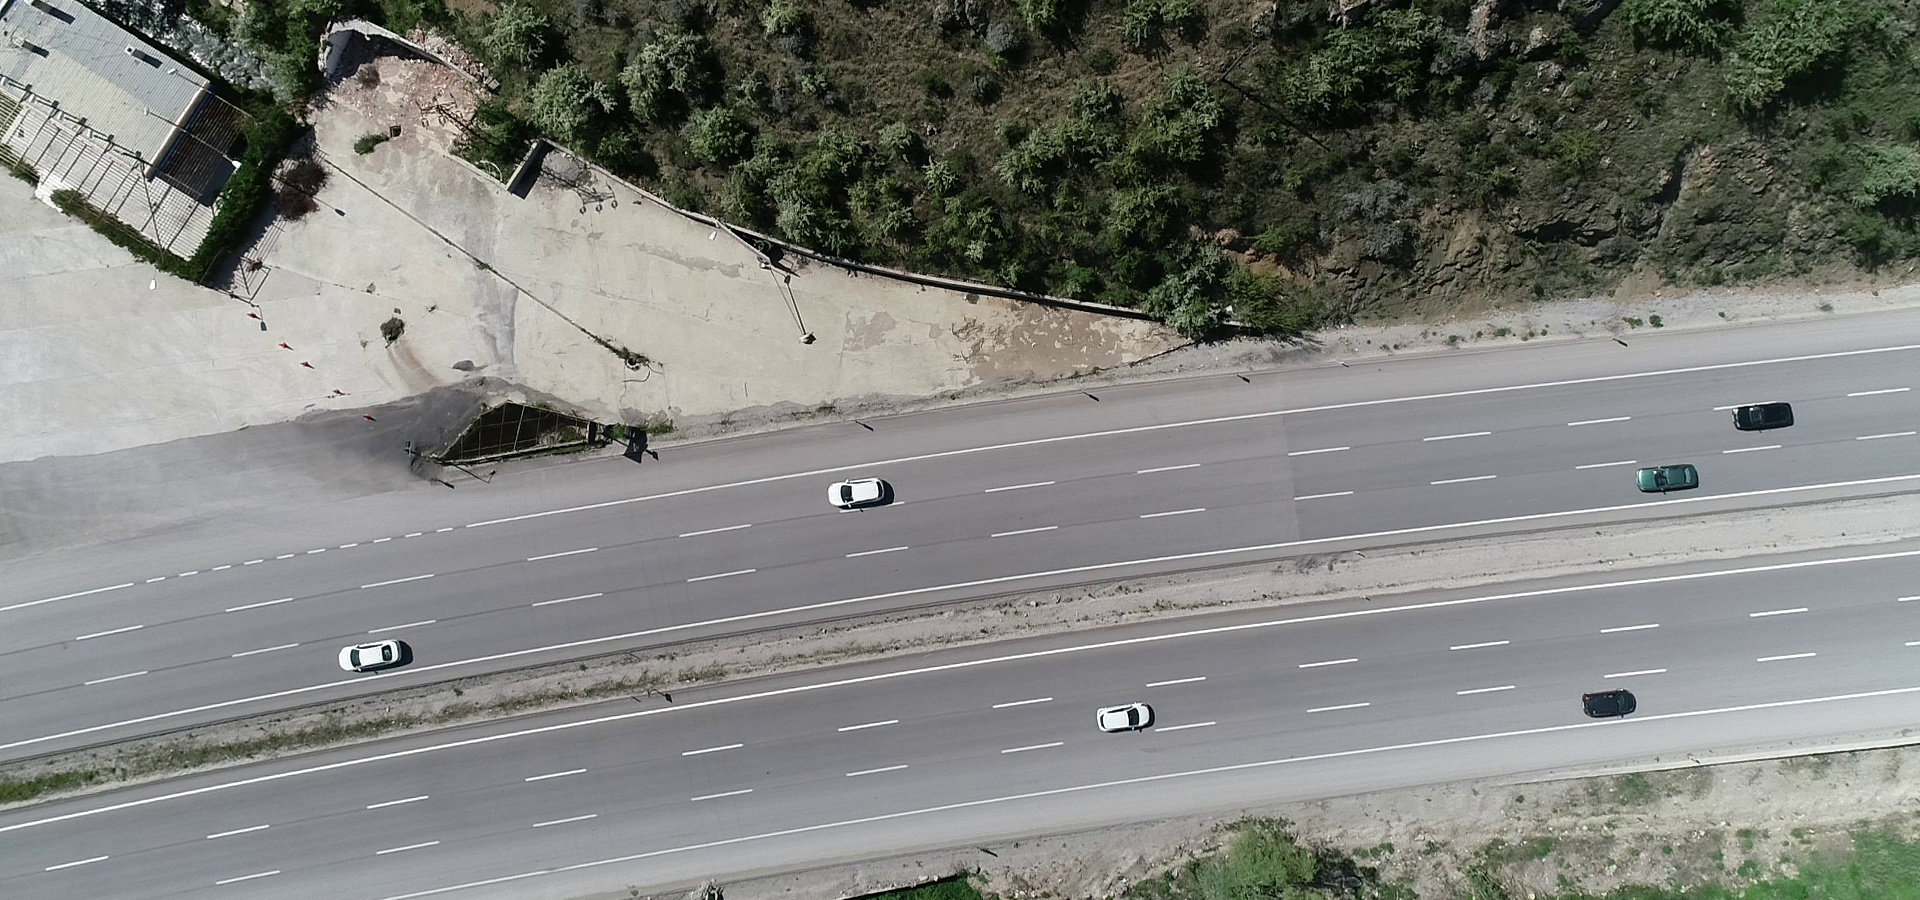araba: (1730, 394, 1805, 438), (336, 637, 411, 678), (827, 469, 891, 516), (1637, 458, 1700, 497), (1576, 683, 1641, 719), (1096, 700, 1160, 735)
